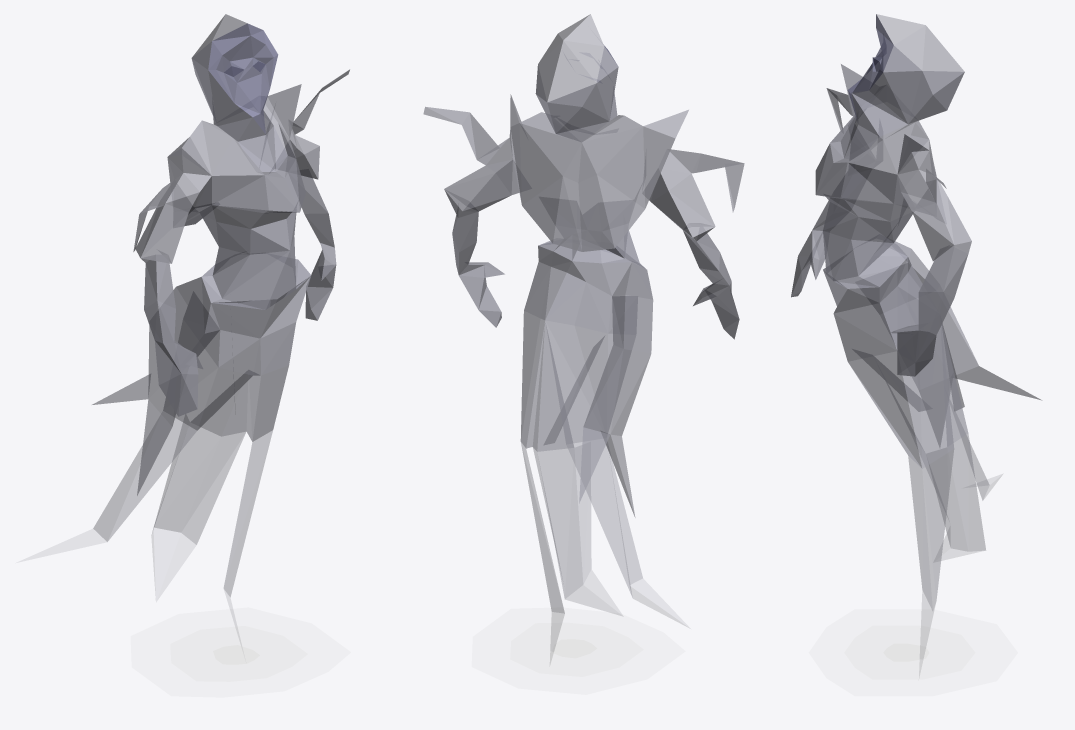
The model's file is ghost.glb.
3 views of the same model, side by side, from view 1: azimuth 30°, elevation 25°; view 2: azimuth 150°, elevation 25°; view 3: azimuth 270°, elevation 25° (orthographic). The views are drawn at different scales.
Size of the model in its own units: 98.29 by 204 by 81.
Materials: 2 (2 with a texture image).
